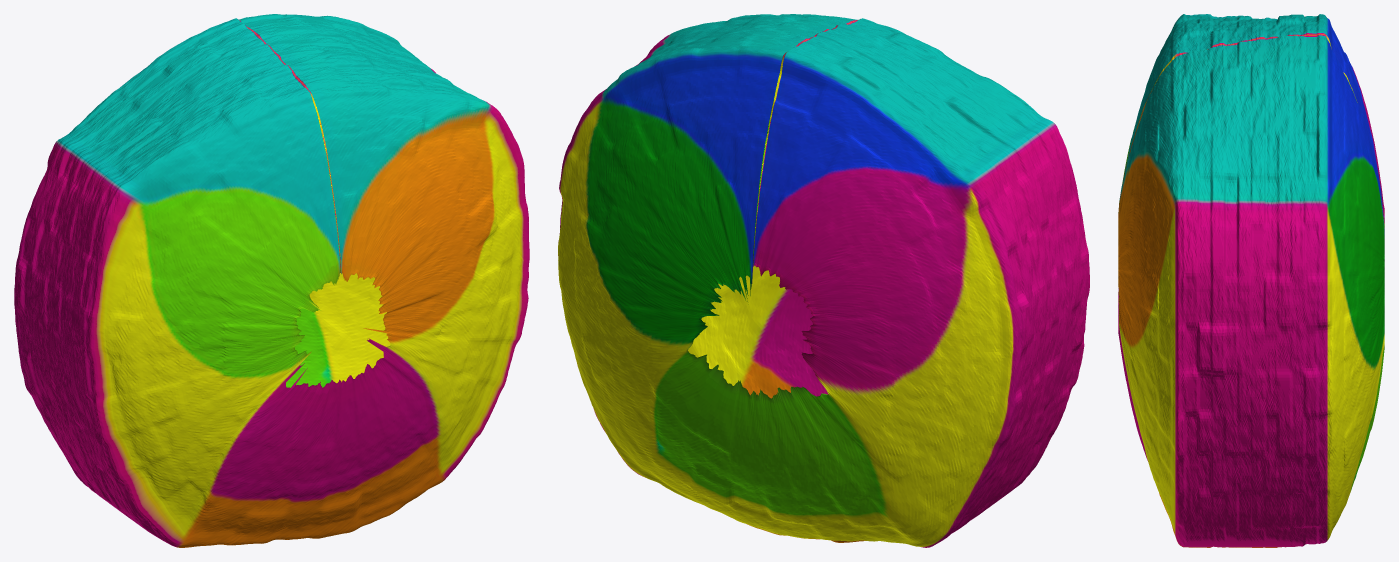
3 renders of one model, left to right at view 1: azimuth 30°, elevation 25°; view 2: azimuth 150°, elevation 25°; view 3: azimuth 270°, elevation 25°, orthographic. The views are drawn at different scales.
Visible parts, largest first — view 1: geometry_0; view 2: geometry_0; view 3: geometry_0.
Part boxes in pixels (x1,y1,x2,y2): geometry_0: [14, 14, 529, 547]; geometry_0: [558, 14, 1089, 547]; geometry_0: [1118, 14, 1384, 547].
Size of the model in its own units: 1.85 by 1.86 by 0.9423.
1 material, 1 textured.
